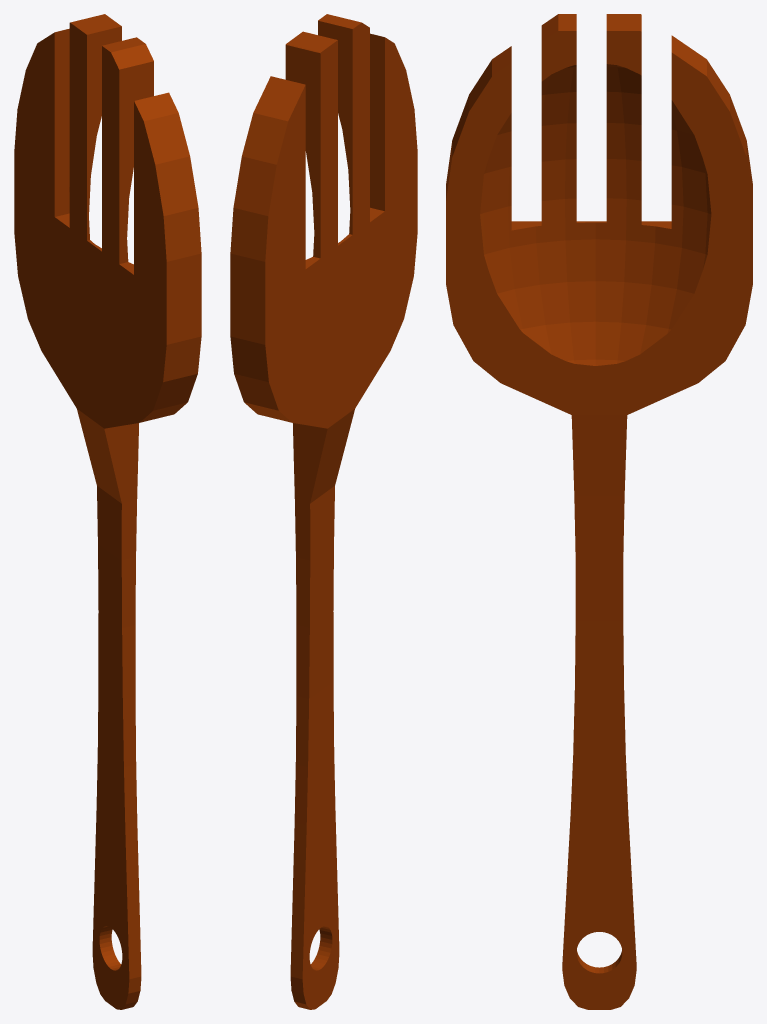
File: ustensilwood_002.fbx
The picture shows the model from 3 angles, left to right: view 1: azimuth 30°, elevation 25°; view 2: azimuth 150°, elevation 25°; view 3: azimuth 270°, elevation 25°; orthographic projection.
Parts seen in each view (by area): view 1: Cube.015; view 2: Cube.015; view 3: Cube.015.
Boxes of the visible parts, x1,y1,x2,y2 form: Cube.015: (14, 14, 201, 1009); Cube.015: (230, 14, 417, 1009); Cube.015: (446, 14, 752, 1009).
Bounding box in the file's own units: 7.04 × 187 × 53.18.
